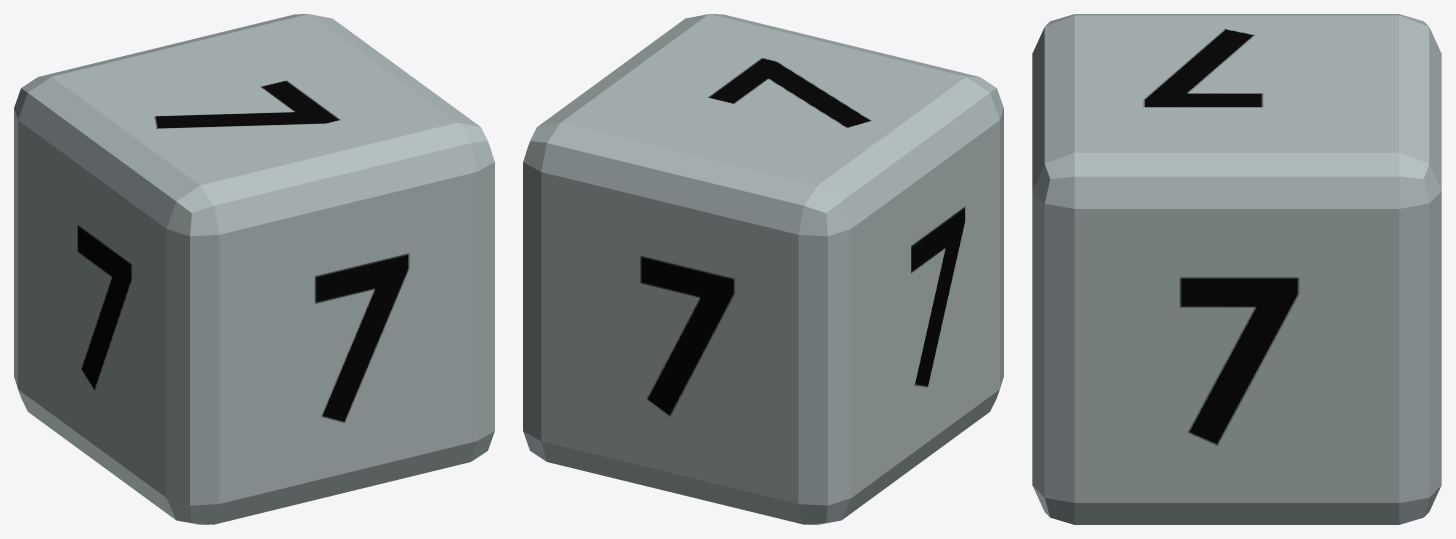
Rendered from cubeSeven.glb.
3 views of the same model, side by side, from view 1: azimuth 30°, elevation 25°; view 2: azimuth 150°, elevation 25°; view 3: azimuth 270°, elevation 25° (orthographic). The views are drawn at different scales.
Visible parts, largest first — view 1: Cube; view 2: Cube; view 3: Cube.
Boxes of the visible parts, x1,y1,x2,y2 form: Cube: (14,14,494,524); Cube: (523,14,1003,524); Cube: (1032,14,1441,524).
Size of the model in its own units: 2 by 2 by 2.
1 material, 1 textured.
